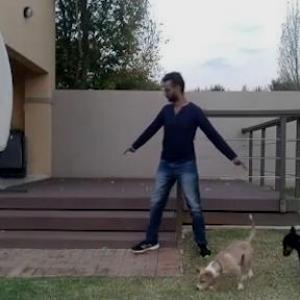land: (121, 71, 249, 256)
